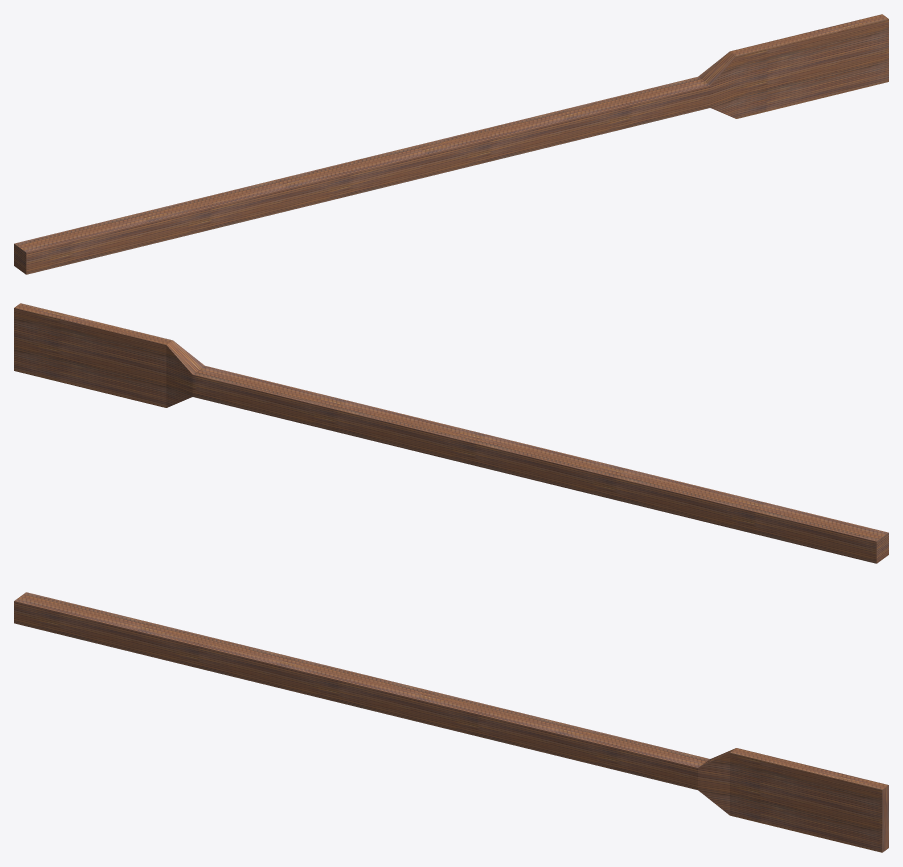
File: HQOar.fbx
3 views of the same model, one above another, from view 1: azimuth 30°, elevation 25°; view 2: azimuth 150°, elevation 25°; view 3: azimuth 330°, elevation 25° (orthographic).
Parts seen in each view (by area): view 1: SmallOar; view 2: SmallOar; view 3: SmallOar.
Part boxes in pixels (<box>): SmallOar: <box>14,14,888,274</box>; SmallOar: <box>14,303,888,563</box>; SmallOar: <box>14,592,888,852</box>.
Size of the model in its own units: 3.21 by 0.0788 by 0.2231.
Materials: 1 (1 with a texture image).
